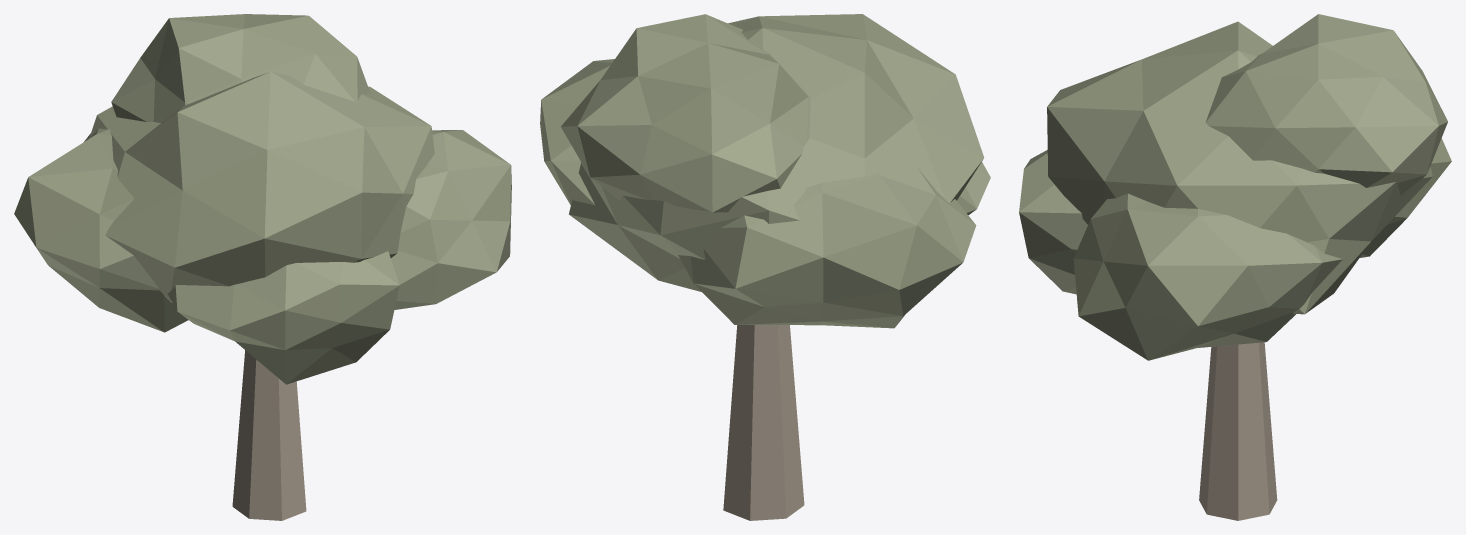
The model's file is olive.gltf.
3 views of the same model, side by side, from view 1: azimuth 30°, elevation 25°; view 2: azimuth 150°, elevation 25°; view 3: azimuth 270°, elevation 25° (orthographic). The views are drawn at different scales.
Visible parts, largest first — view 1: olive; view 2: olive; view 3: olive.
Boxes of the visible parts, bbox=[...] form: olive: bbox=[14, 14, 511, 520]; olive: bbox=[540, 14, 990, 520]; olive: bbox=[1019, 14, 1451, 520].
Size of the model in its own units: 3.89 by 3.84 by 3.24.
